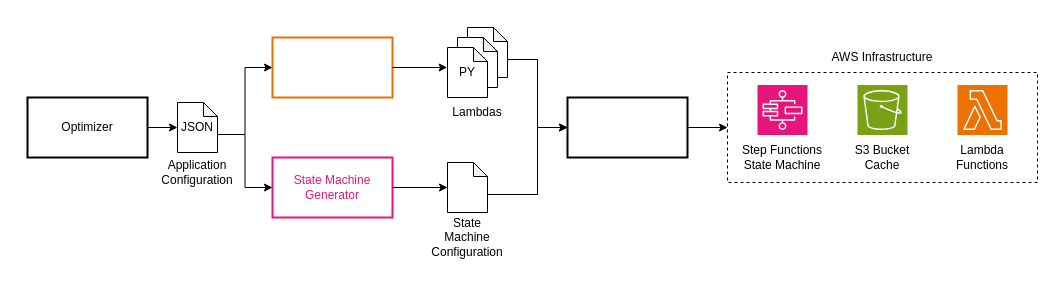
Image size: 1064x284. Some labels were removed from this diagram. The centre of each missing label's shape, as x and y in pixels:
"ASL" goes at (x=467, y=187).
"Orchestrator Generator" goes at (x=332, y=67).
"Terraform Engine" goes at (x=627, y=127).
